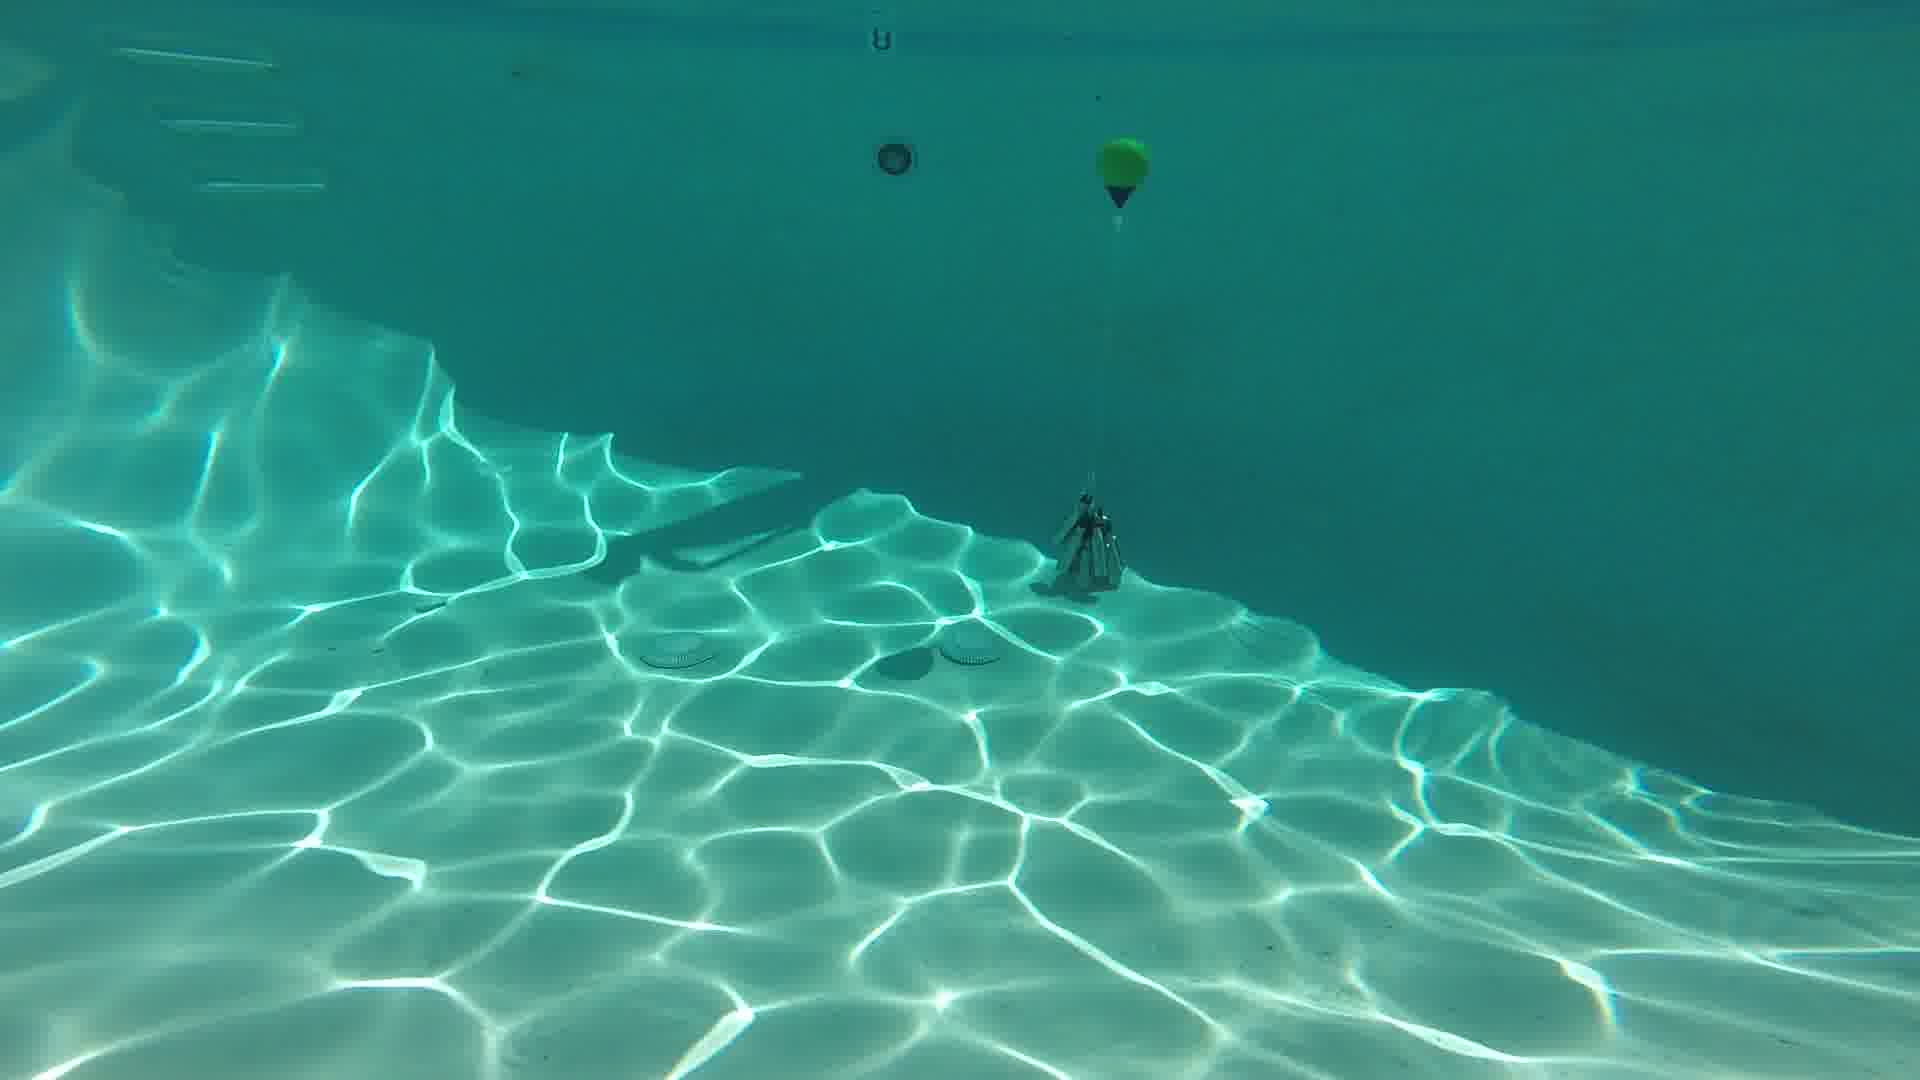yellow_buoy: (1100, 136, 1149, 204)
